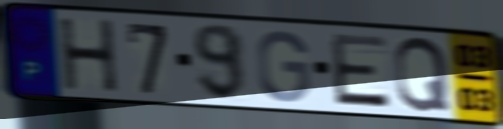7: (125, 20, 170, 96)
9: (191, 22, 248, 104)
E: (327, 32, 392, 111)
G: (254, 27, 313, 105)
H: (56, 17, 122, 95)
Q: (392, 34, 452, 114)
